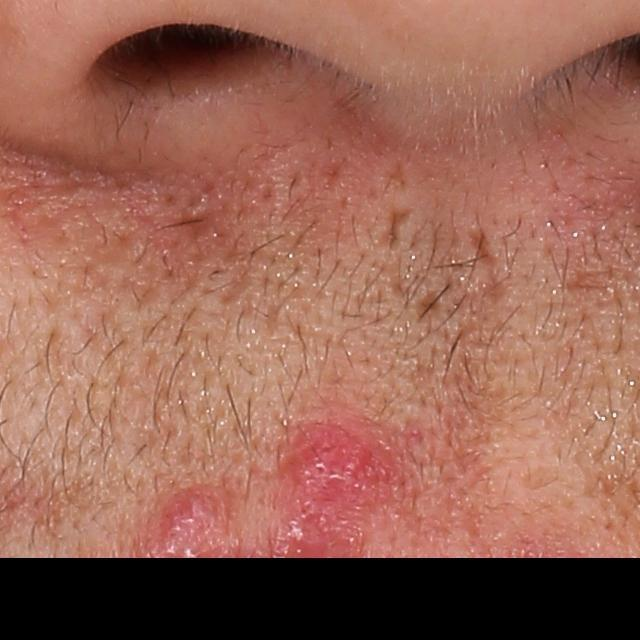atrophic_scar: (372, 205, 420, 252), (470, 222, 501, 275), (383, 159, 409, 194), (417, 290, 444, 318)
papule: (275, 426, 405, 504), (158, 473, 229, 546)
